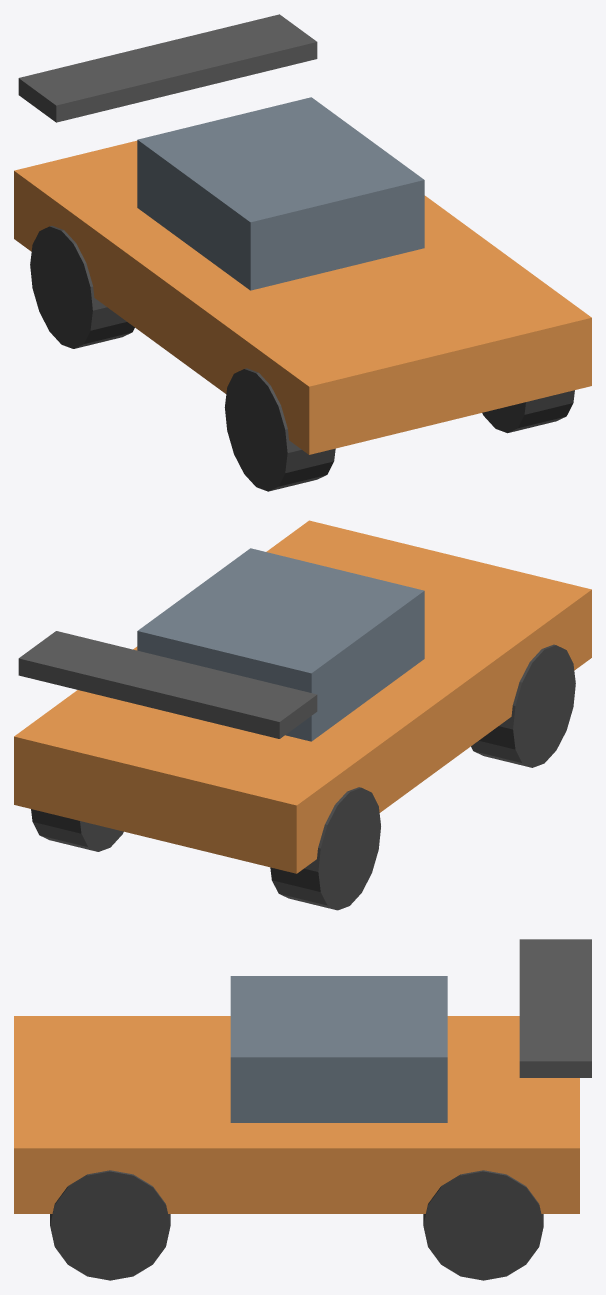
The model's file is body.glb.
3 renders of one model, top to bottom at view 1: azimuth 30°, elevation 25°; view 2: azimuth 150°, elevation 25°; view 3: azimuth 270°, elevation 25°, orthographic. The views are drawn at different scales.
Visible parts, largest first — view 1: Body, WheelFR, WheelBR, WheelFL; view 2: Body, WheelBR, WheelFR, WheelBL; view 3: Body, WheelBL, WheelFL.
Part boxes in pixels (x1=…): Body: x1=14, y1=14, x2=591, y2=454; WheelFR: x1=224, y1=368, x2=335, y2=491; WheelBR: x1=30, y1=226, x2=134, y2=348; WheelFL: x1=482, y1=390, x2=574, y2=433; Body: x1=14, y1=520, x2=591, y2=873; WheelBR: x1=270, y1=787, x2=380, y2=910; WheelFR: x1=471, y1=644, x2=575, y2=767; WheelBL: x1=31, y1=809, x2=123, y2=851; Body: x1=14, y1=939, x2=591, y2=1213; WheelBL: x1=423, y1=1170, x2=543, y2=1280; WheelFL: x1=50, y1=1170, x2=170, y2=1280.
Bounding box in the file's own units: 0.265 × 0.195 × 0.48.
